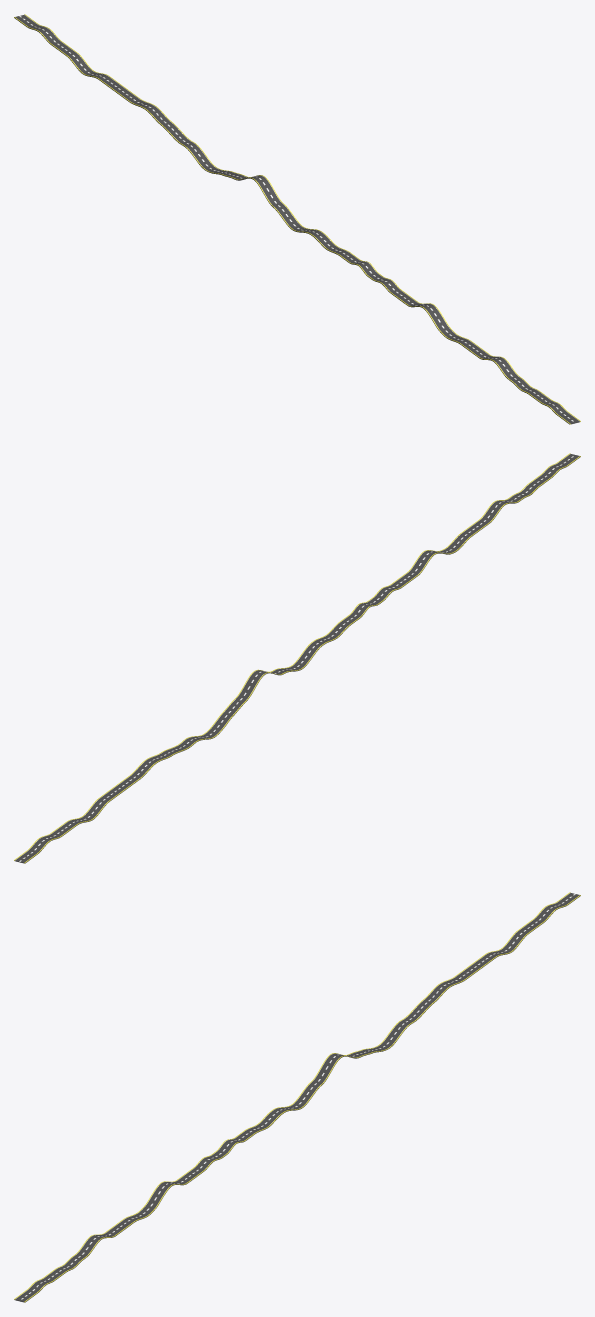
File: godtierplatform.fbx
3 views of the same model, one above another, from view 1: azimuth 30°, elevation 25°; view 2: azimuth 150°, elevation 25°; view 3: azimuth 330°, elevation 25° (orthographic).
Visible parts, largest first — view 1: Plane; view 2: Plane; view 3: Plane.
Boxes of the visible parts, left/top/right/bottom form: Plane: left=14, top=14, right=580, bottom=424; Plane: left=14, top=453, right=580, bottom=863; Plane: left=14, top=892, right=580, bottom=1302.
Bounding box in the file's own units: 577 × 1335 × 50000.
Materials: 1 (1 with a texture image).
